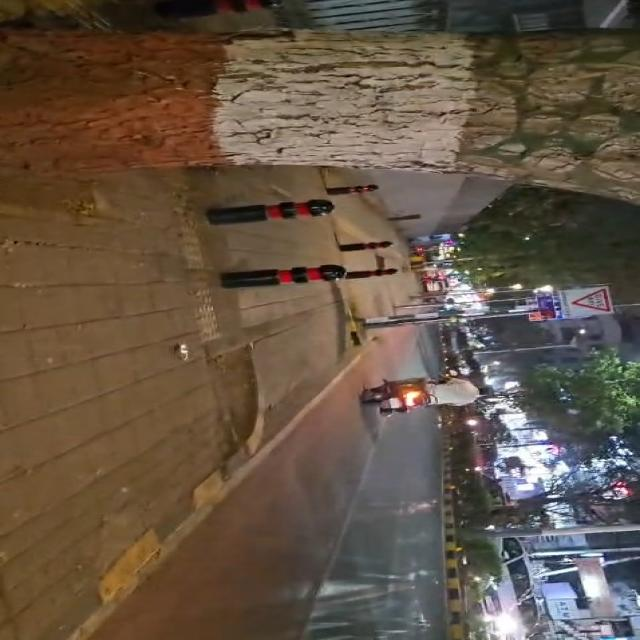obstacle: (0, 31, 639, 201), (207, 200, 334, 225), (221, 265, 346, 288), (365, 311, 528, 328), (484, 524, 639, 539), (154, 0, 279, 18), (476, 343, 577, 356), (529, 547, 639, 558), (339, 241, 392, 252), (326, 185, 378, 195), (346, 269, 397, 279)
vehical: (361, 378, 432, 415)
